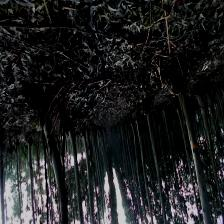trunk: (178, 86, 212, 220), (42, 116, 69, 219), (145, 110, 166, 211), (69, 134, 83, 217), (28, 144, 35, 220)
